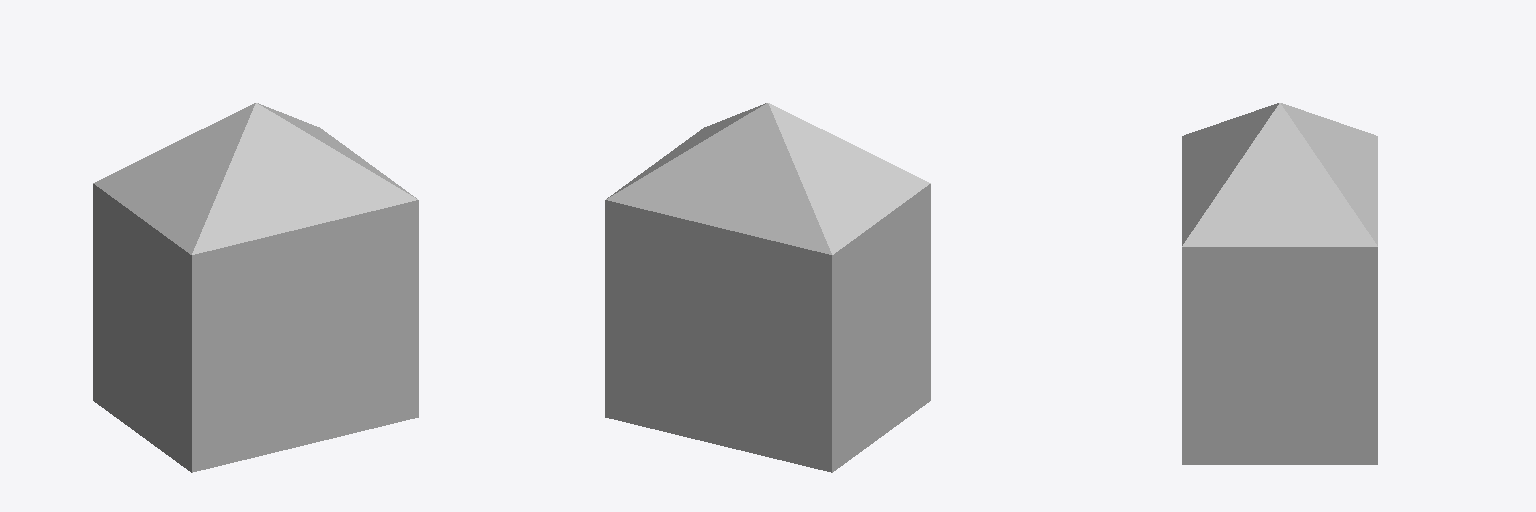
The model's file is house.obj.
3 renders of one model, left to right at view 1: azimuth 30°, elevation 25°; view 2: azimuth 150°, elevation 25°; view 3: azimuth 270°, elevation 25°, orthographic.
Visible parts, largest first — view 1: Cube; view 2: Cube; view 3: Cube.
Boxes of the visible parts, box(x1,y1,x2,y2) form: Cube: box(93, 103, 418, 472); Cube: box(605, 103, 930, 472); Cube: box(1182, 103, 1377, 464).
Size of the model in its own units: 4 by 5.15 by 3.